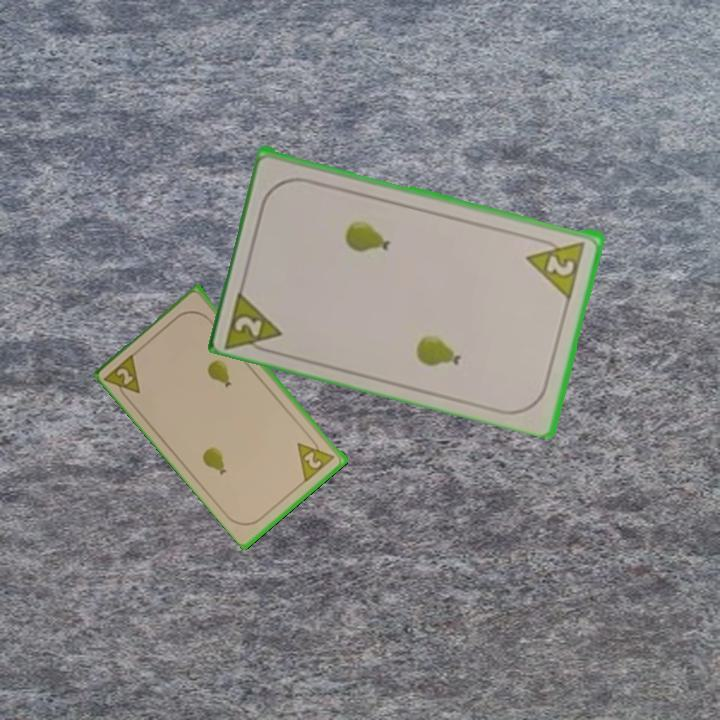2p: (221, 284, 286, 358), (523, 235, 589, 299), (102, 349, 144, 405), (294, 432, 338, 484)
